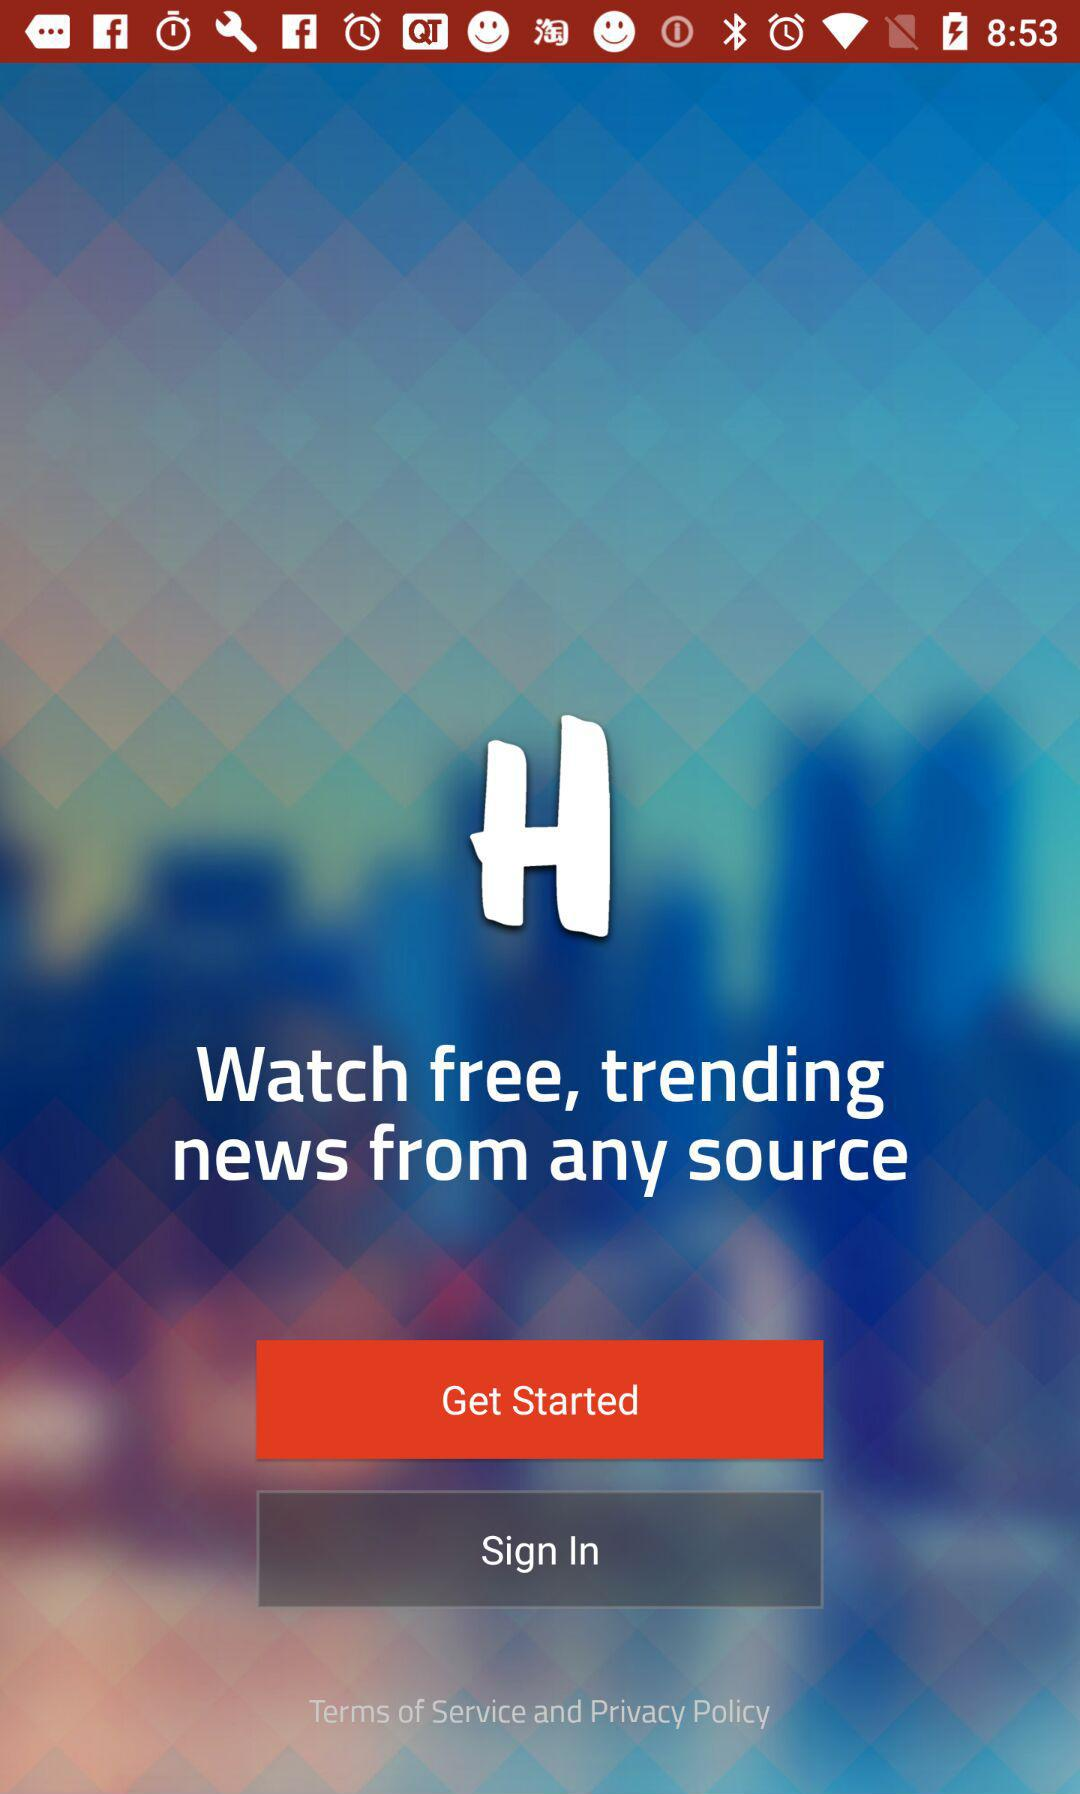Image: (468, 714, 614, 941)
Text: (173, 1042, 910, 1199), (307, 1697, 771, 1731)
TextButton: (256, 1339, 825, 1461), (256, 1489, 826, 1609)
UpperTaskBar: (1, 1, 1080, 64)
